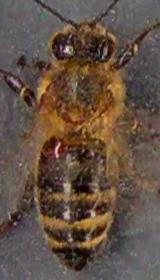varroa_mite: (40, 132, 74, 166)
